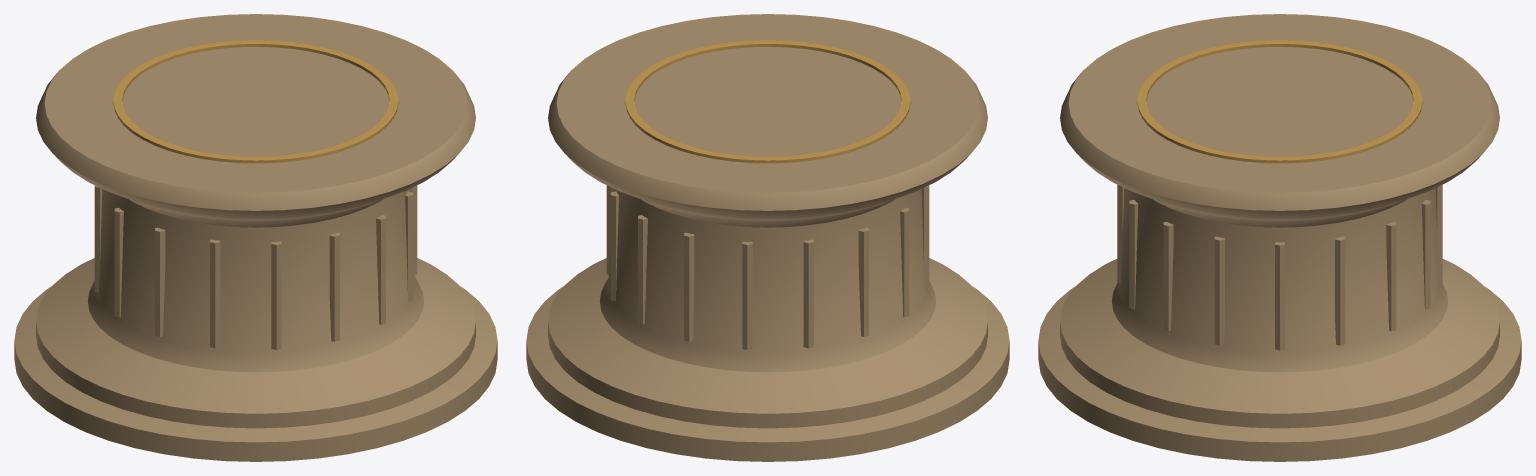
Rendered from pedestal_grimoire.glb.
The picture shows the model from 3 angles, left to right: view 1: azimuth 30°, elevation 25°; view 2: azimuth 150°, elevation 25°; view 3: azimuth 270°, elevation 25°; orthographic projection.
Visible parts, largest first — view 1: pedestal_grimoire; view 2: pedestal_grimoire; view 3: pedestal_grimoire.
Part boxes in pixels (x1,y1,x2,y2): pedestal_grimoire: (14,14,497,461); pedestal_grimoire: (526,14,1009,461); pedestal_grimoire: (1038,14,1521,461).
Bounding box in the file's own units: 1.79 × 1.06 × 1.79.
